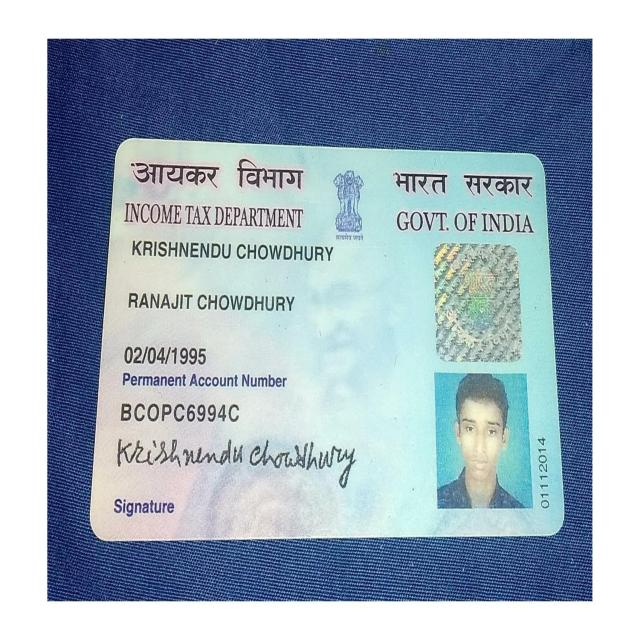pan_card: (95, 146, 553, 533)
